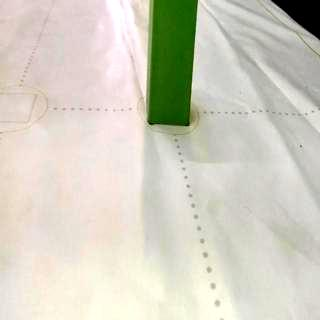greenbox: (148, 0, 198, 125)
